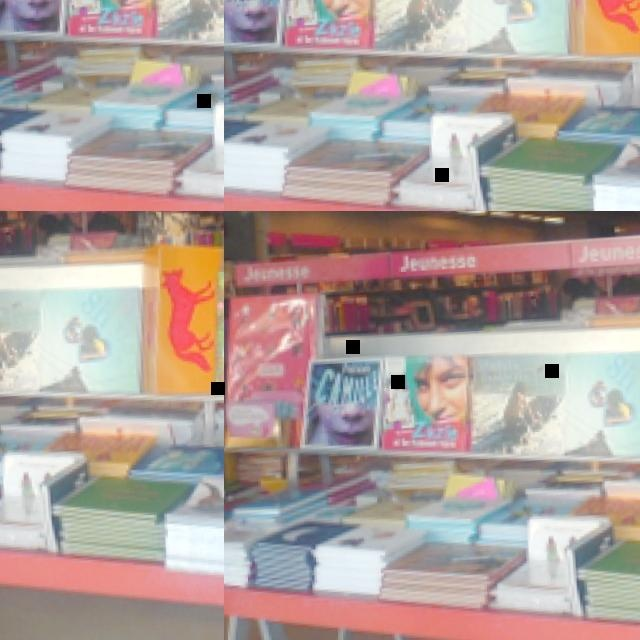Person: (224, 46, 640, 211)
